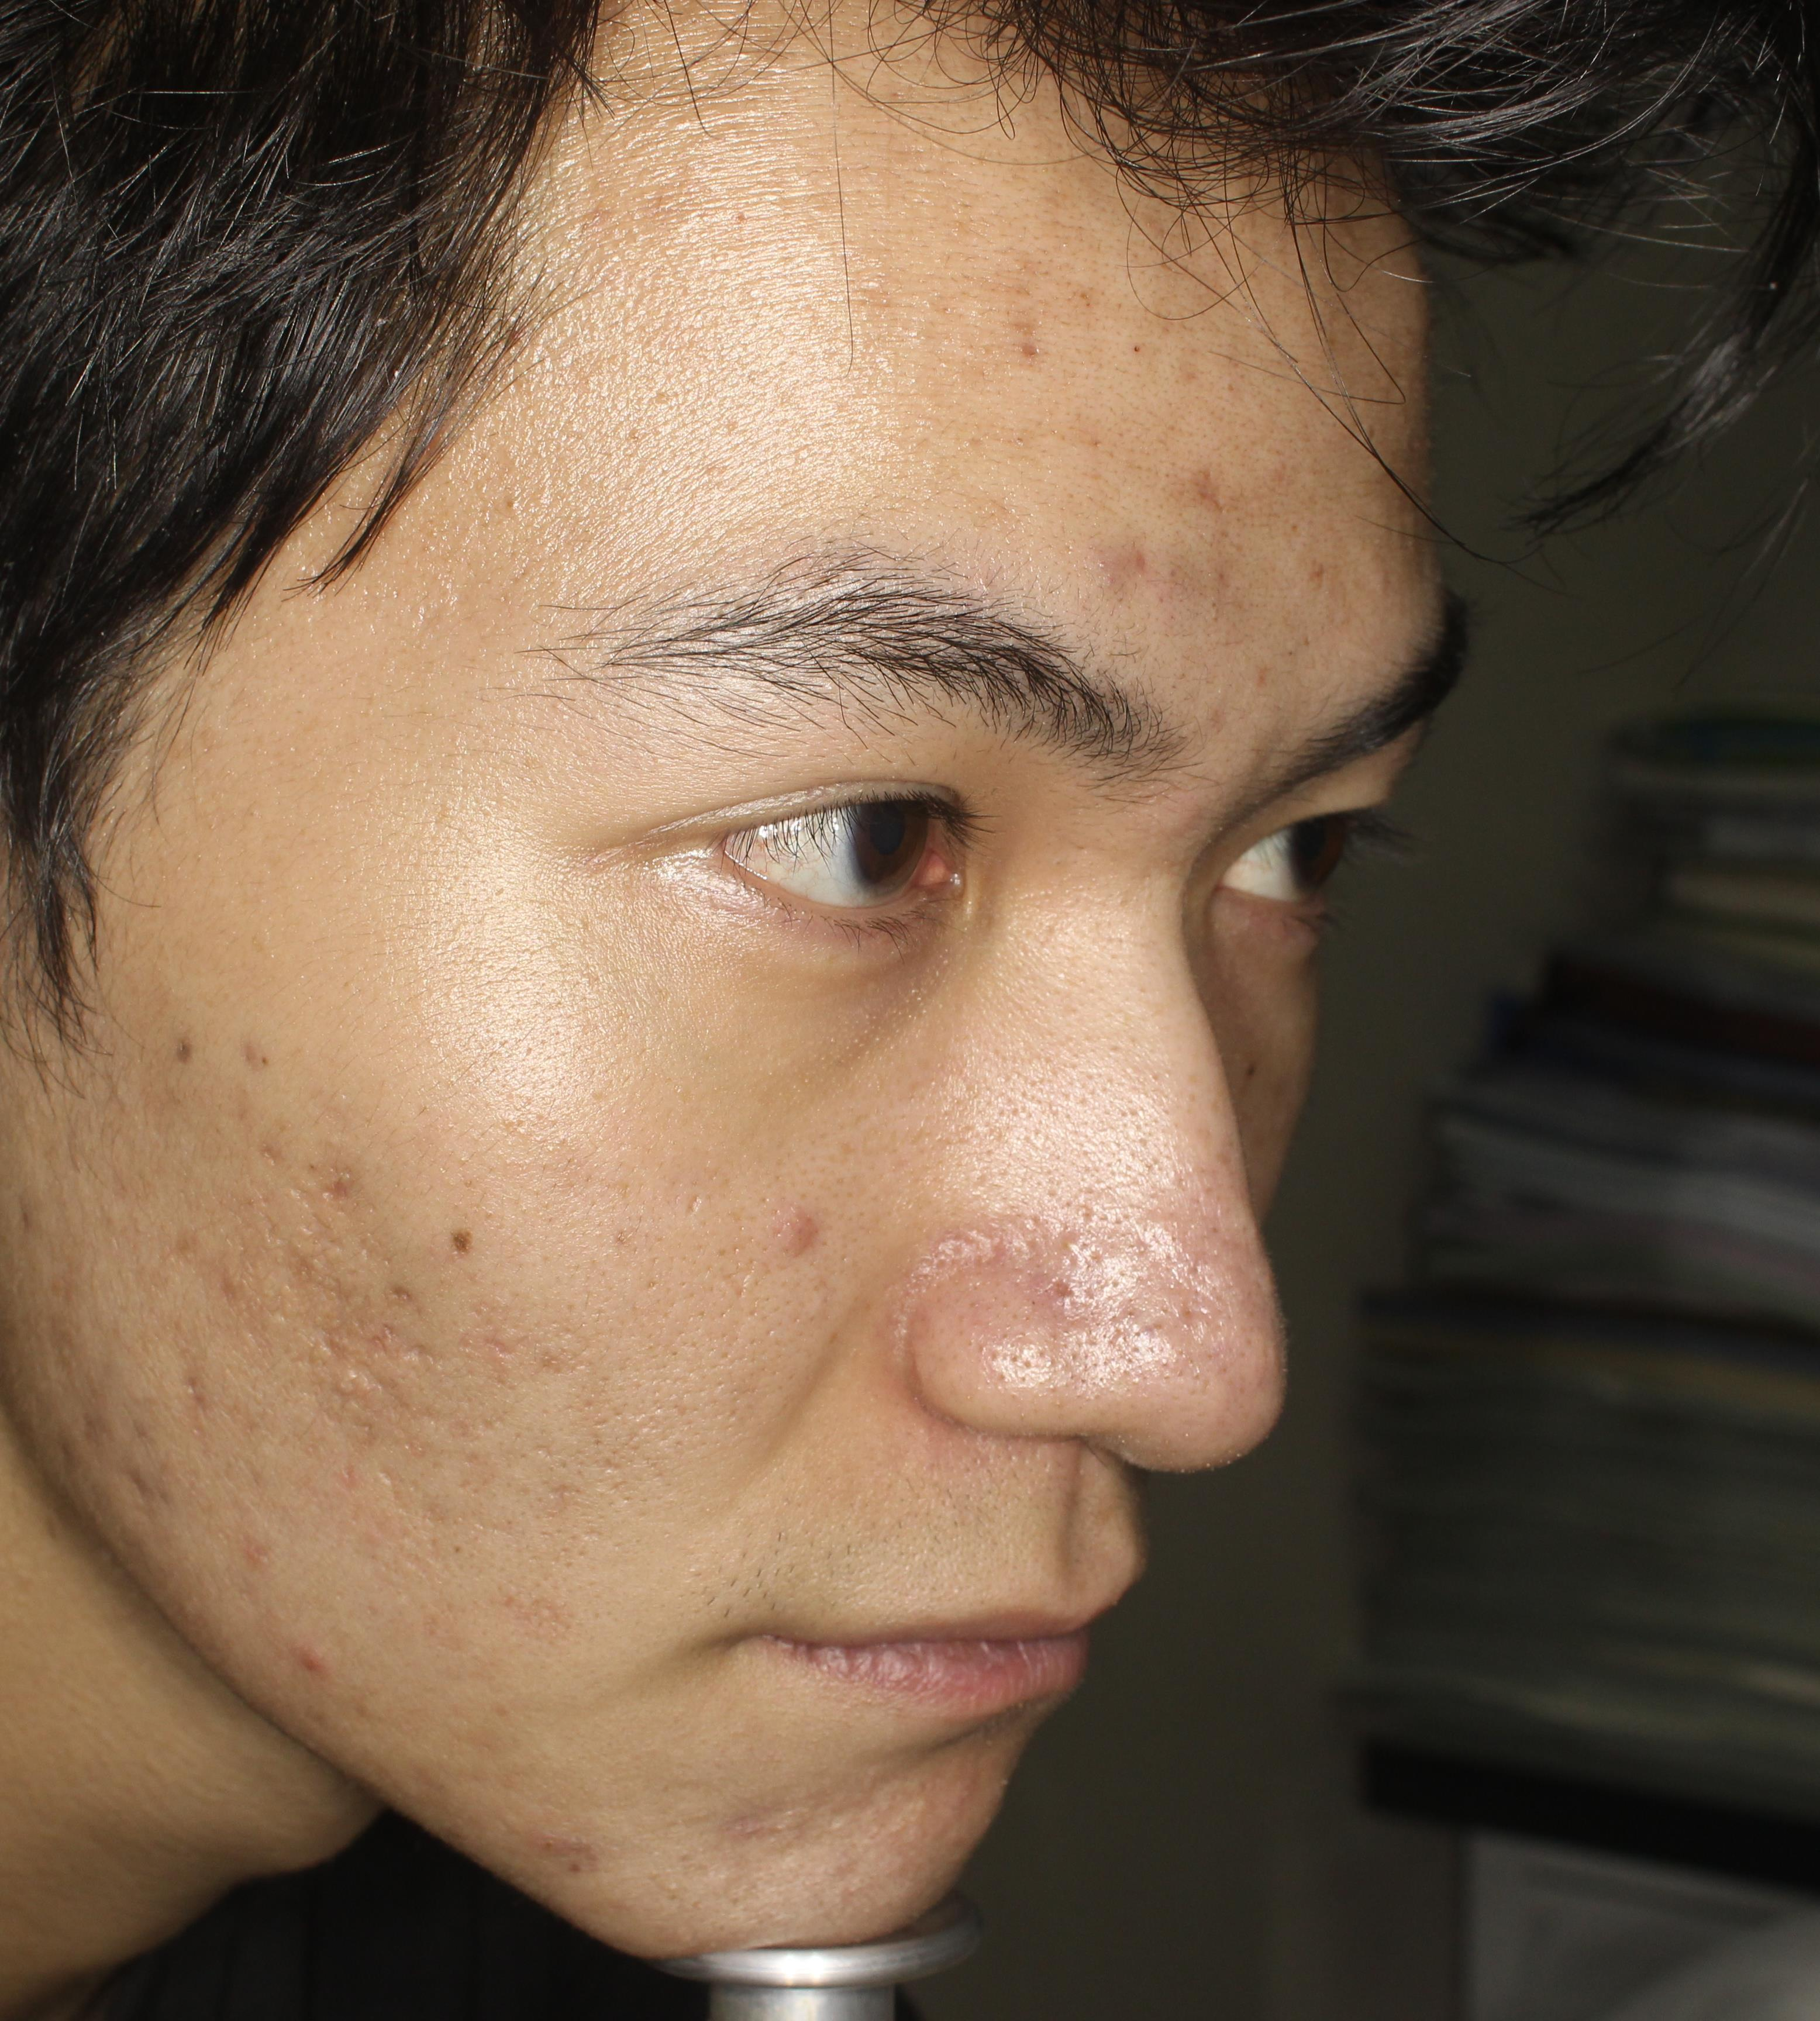fore: (1031, 1240, 1126, 1375), (522, 1809, 615, 1930), (1072, 509, 1161, 625), (271, 1617, 351, 1705), (768, 1196, 834, 1280), (1189, 536, 1247, 630), (1175, 442, 1242, 514)
